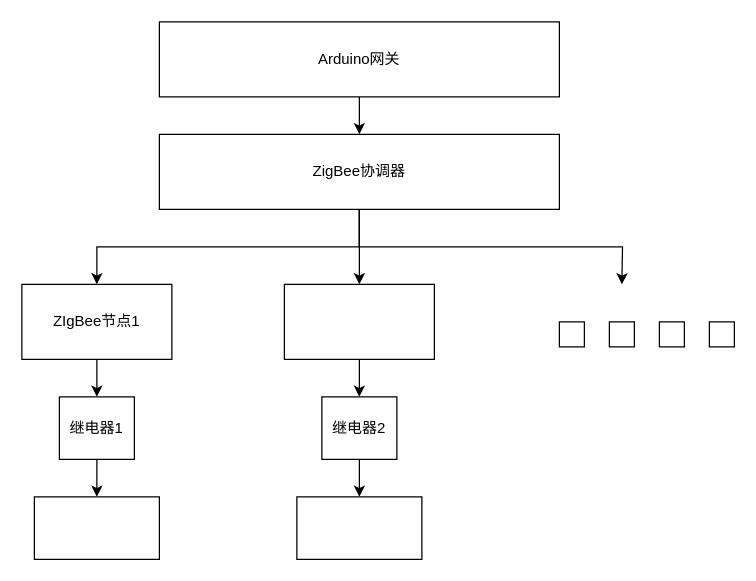
The diagram is 756 pixels wide and 581 high, and some of its shapes have lost their labels. The centre of each missing label's shape, as x and y in pixels:
ZIgBee节点2: point (358, 321)
家电1: point (96, 527)
家电2: point (359, 527)
